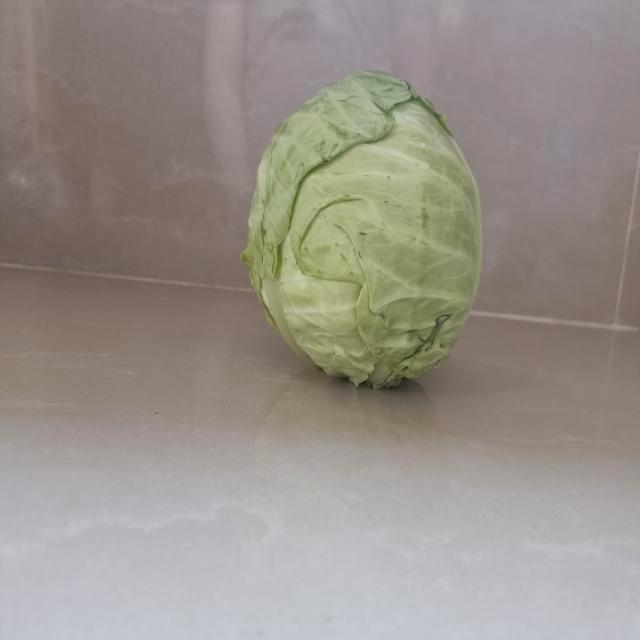cabbage: (247, 66, 484, 391)
